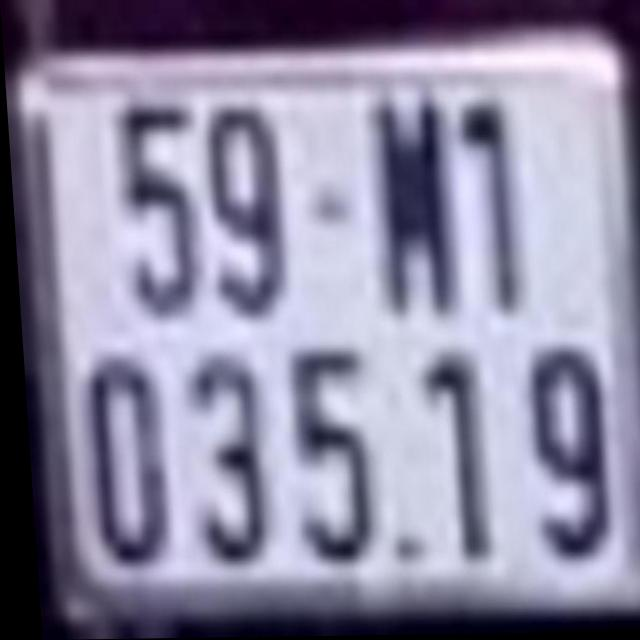0: (77, 341, 166, 563)
1: (415, 339, 494, 564), (460, 104, 524, 319)
3: (171, 355, 265, 564)
5: (278, 343, 374, 564), (107, 99, 199, 323)
9: (518, 329, 608, 557), (197, 103, 287, 321)
H: (375, 113, 454, 320)
